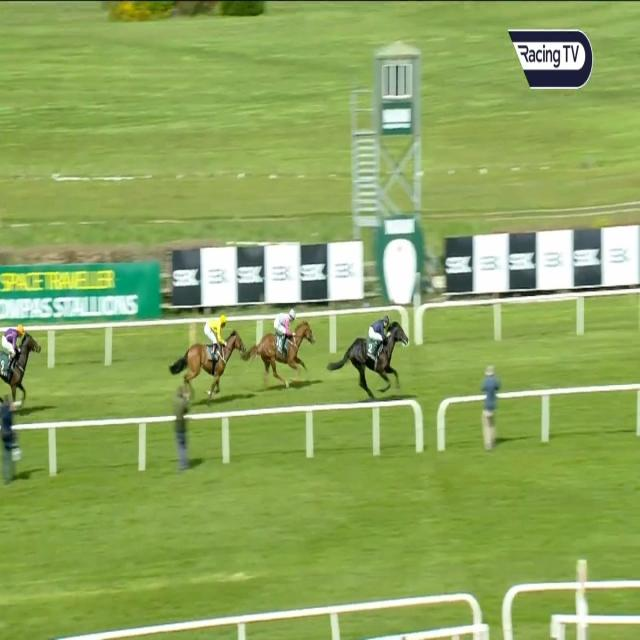horses-racing: (249, 306, 314, 389), (349, 314, 412, 394), (186, 315, 245, 400), (0, 320, 44, 416)
